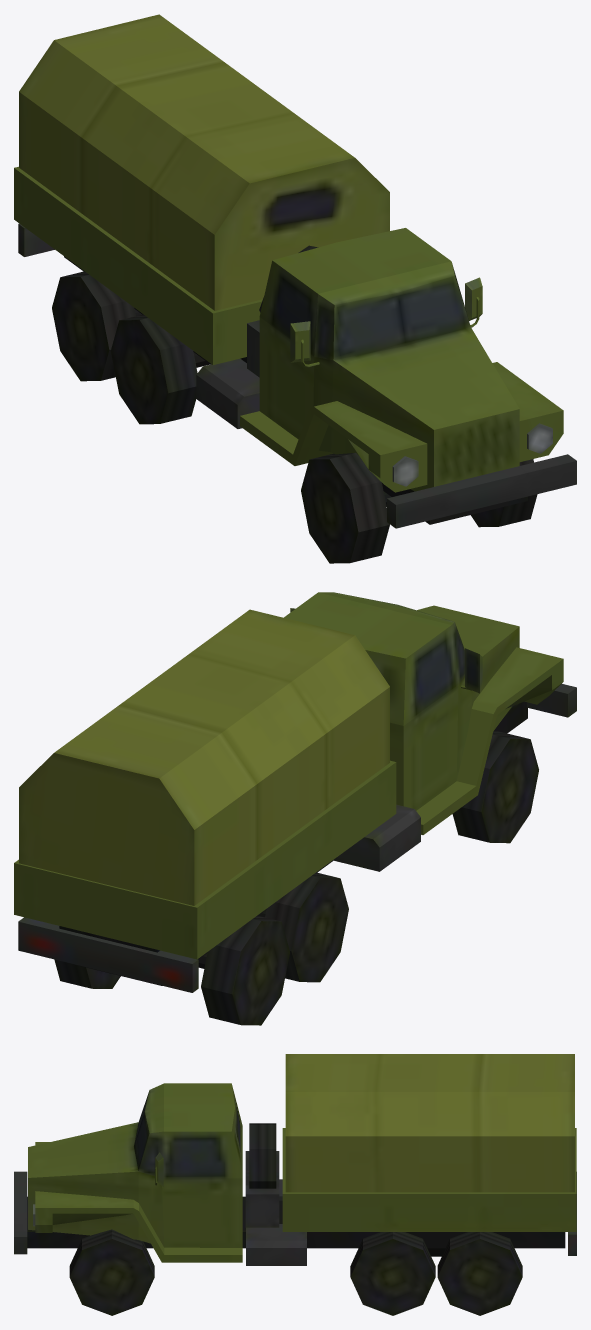
Rendered from mil-truck.lod1.glb.
3 renders of one model, top to bottom at view 1: azimuth 30°, elevation 25°; view 2: azimuth 150°, elevation 25°; view 3: azimuth 270°, elevation 25°, orthographic. The views are drawn at different scales.
Parts seen in each view (by area): view 1: Ural_Ural_0; view 2: Ural_Ural_0; view 3: Ural_Ural_0.
Part boxes in pixels (x1=…): Ural_Ural_0: x1=14, y1=14, x2=576, y2=563; Ural_Ural_0: x1=14, y1=592, x2=576, y2=1025; Ural_Ural_0: x1=14, y1=1054, x2=576, y2=1315.
Bounding box in the file's own units: 2.13 × 3.05 × 7.4.
Materials: 1 (1 with a texture image).
